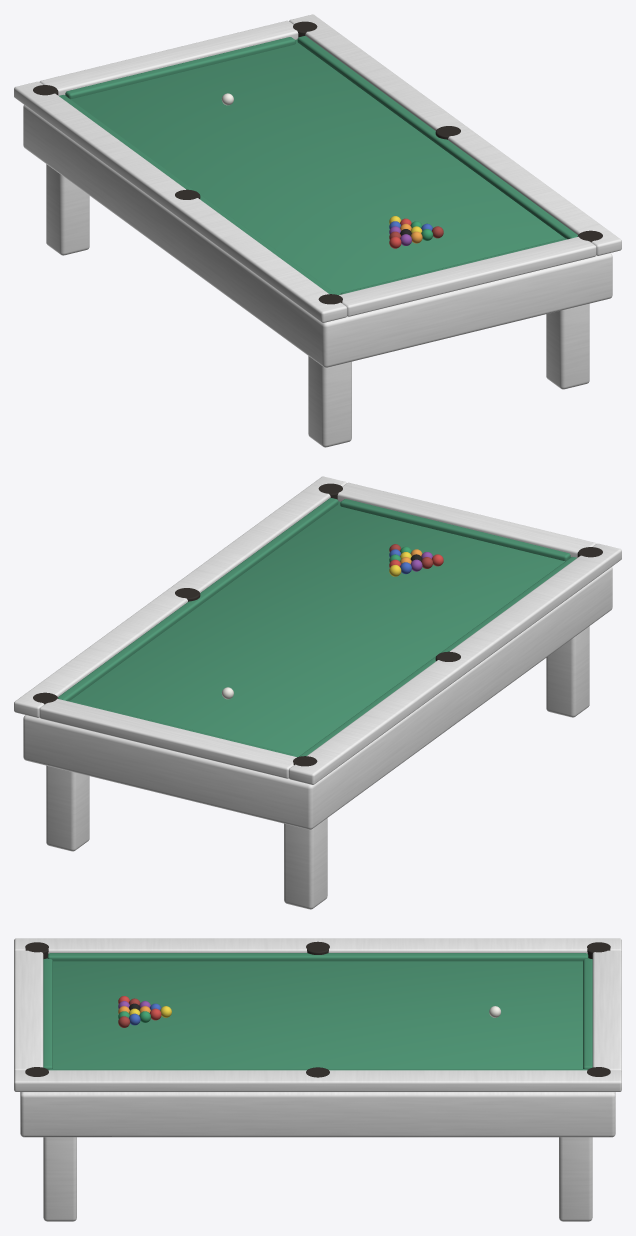
File: pool-table-classic.glb
The picture shows the model from 3 angles, top to bottom: view 1: azimuth 30°, elevation 25°; view 2: azimuth 150°, elevation 25°; view 3: azimuth 270°, elevation 25°; orthographic projection.
Parts seen in each view (by area): view 1: Slate bed cloth, Cabinet apron, Long rail, Long rail.001, End rail, End rail.001, Long rail cushion.001, Turned table leg, Turned table leg.002, Turned table leg.001, End rail cushion.001, Long rail cushion; view 2: Slate bed cloth, Cabinet apron, Long rail, Long rail.001, End rail.001, End rail, Long rail cushion.001, Turned table leg.001, Turned table leg.003, Turned table leg, End rail cushion, Long rail cushion; view 3: Slate bed cloth, Cabinet apron, Long rail.001, Long rail, Long rail cushion, End rail, End rail.001, Turned table leg.002, Turned table leg.003, End rail cushion, End rail cushion.001, Long rail cushion.001.
Boxes of the visible parts, bbox=[...] form: Slate bed cloth: bbox=[71, 39, 564, 295]; Cabinet apron: bbox=[23, 105, 612, 367]; Long rail: bbox=[14, 81, 347, 322]; Long rail.001: bbox=[289, 14, 621, 255]; End rail: bbox=[339, 236, 596, 316]; End rail.001: bbox=[40, 20, 298, 95]; Long rail cushion.001: bbox=[297, 36, 577, 239]; Turned table leg: bbox=[308, 356, 351, 447]; Turned table leg.002: bbox=[546, 303, 589, 389]; Turned table leg.001: bbox=[46, 164, 89, 255]; End rail cushion.001: bbox=[65, 37, 295, 99]; Long rail cushion: bbox=[59, 95, 336, 294]; Slate bed cloth: bbox=[71, 501, 564, 757]; Cabinet apron: bbox=[23, 567, 612, 829]; Long rail: bbox=[288, 543, 621, 784]; Long rail.001: bbox=[14, 476, 346, 717]; End rail.001: bbox=[39, 698, 296, 778]; End rail: bbox=[337, 482, 595, 557]; Long rail cushion.001: bbox=[58, 498, 338, 701]; Turned table leg.001: bbox=[284, 818, 327, 909]; Turned table leg.003: bbox=[46, 765, 89, 851]; Turned table leg: bbox=[546, 626, 589, 717]; End rail cushion: bbox=[340, 499, 570, 561]; Long rail cushion: bbox=[299, 557, 576, 756]; Slate bed cloth: bbox=[46, 958, 589, 1068]; Cabinet apron: bbox=[20, 1092, 615, 1137]; Long rail.001: bbox=[14, 1070, 621, 1091]; Long rail: bbox=[14, 938, 621, 953]; Long rail cushion: bbox=[47, 953, 588, 961]; End rail: bbox=[14, 950, 43, 1071]; End rail.001: bbox=[592, 950, 621, 1071]; Turned table leg.002: bbox=[43, 1137, 76, 1221]; Turned table leg.003: bbox=[559, 1137, 592, 1221]; End rail cushion: bbox=[43, 959, 52, 1069]; End rail cushion.001: bbox=[583, 959, 592, 1069]; Long rail cushion.001: bbox=[48, 1069, 587, 1070].
Bounding box in the file's own units: 1.63 × 0.8 × 2.9.
Materials: 12 (1 with a texture image).
